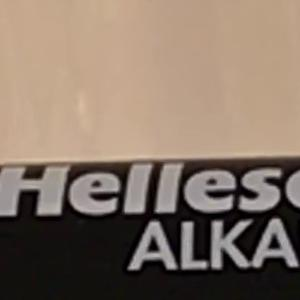ALK: (119, 212, 217, 280)
